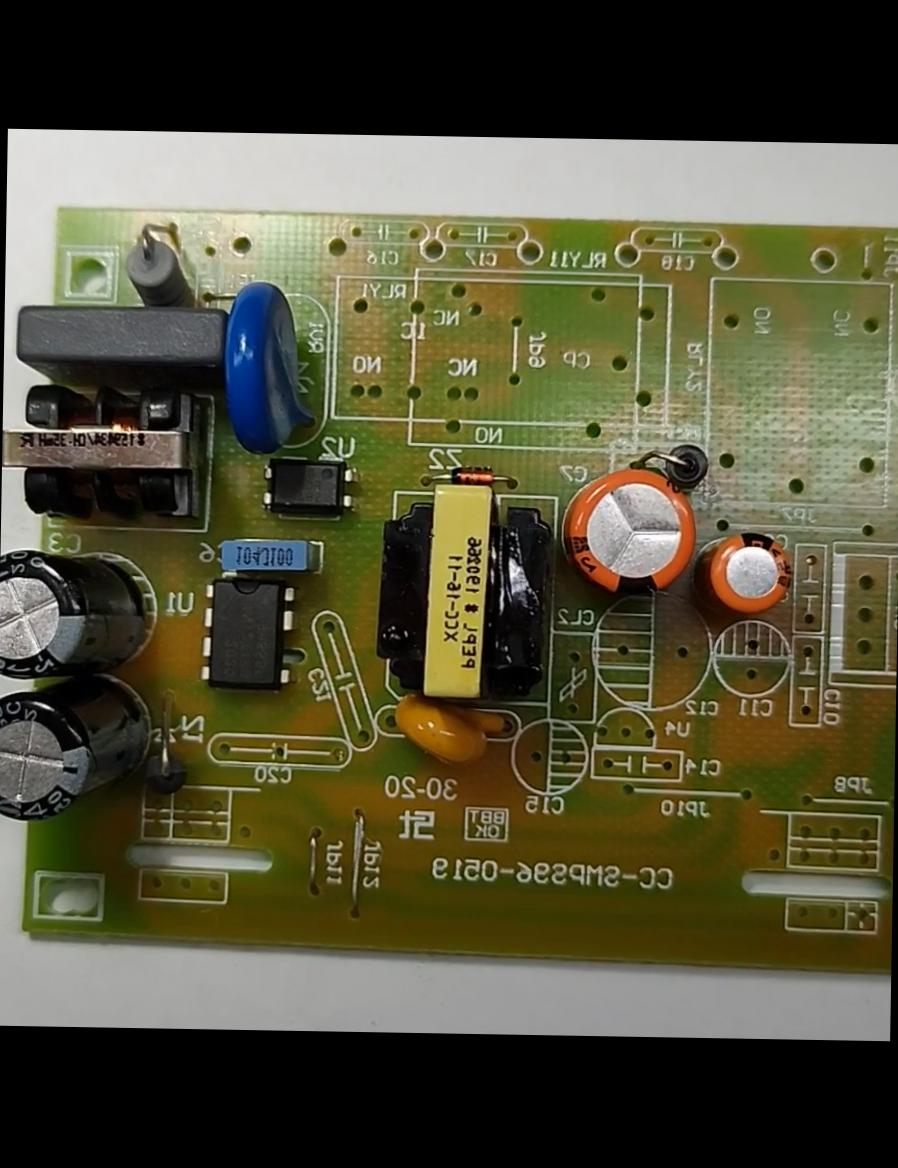Cap1: (556, 455, 705, 608)
Cap2: (700, 522, 804, 624)
Cap3: (0, 538, 139, 687)
Cap4: (0, 680, 129, 828)
MOSFET: (191, 560, 316, 706)
Mov: (206, 257, 324, 460)
Resistor: (105, 192, 200, 312)
Transformer: (371, 467, 568, 717), (1, 357, 221, 532)
